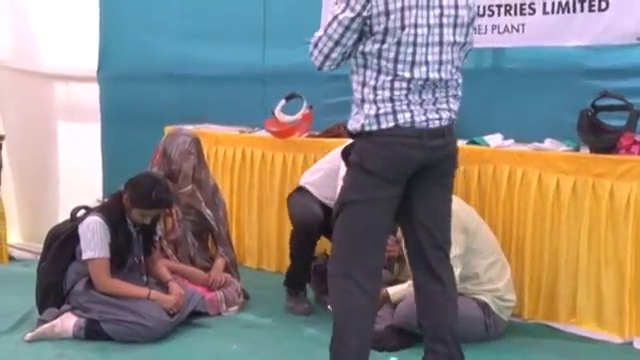helmet_off: (153, 133, 208, 197), (115, 175, 172, 224)
person: (280, 4, 493, 359), (30, 171, 198, 347), (372, 168, 521, 356), (282, 137, 410, 317), (136, 126, 243, 317)
